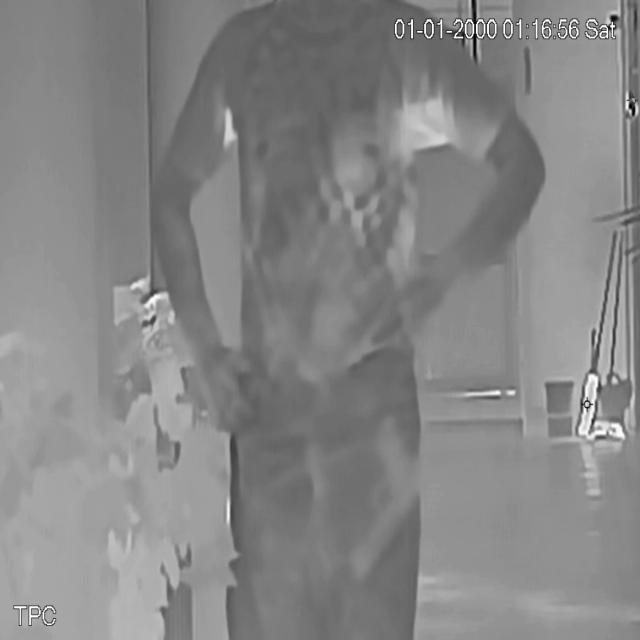Weapon: (338, 406, 427, 594)
